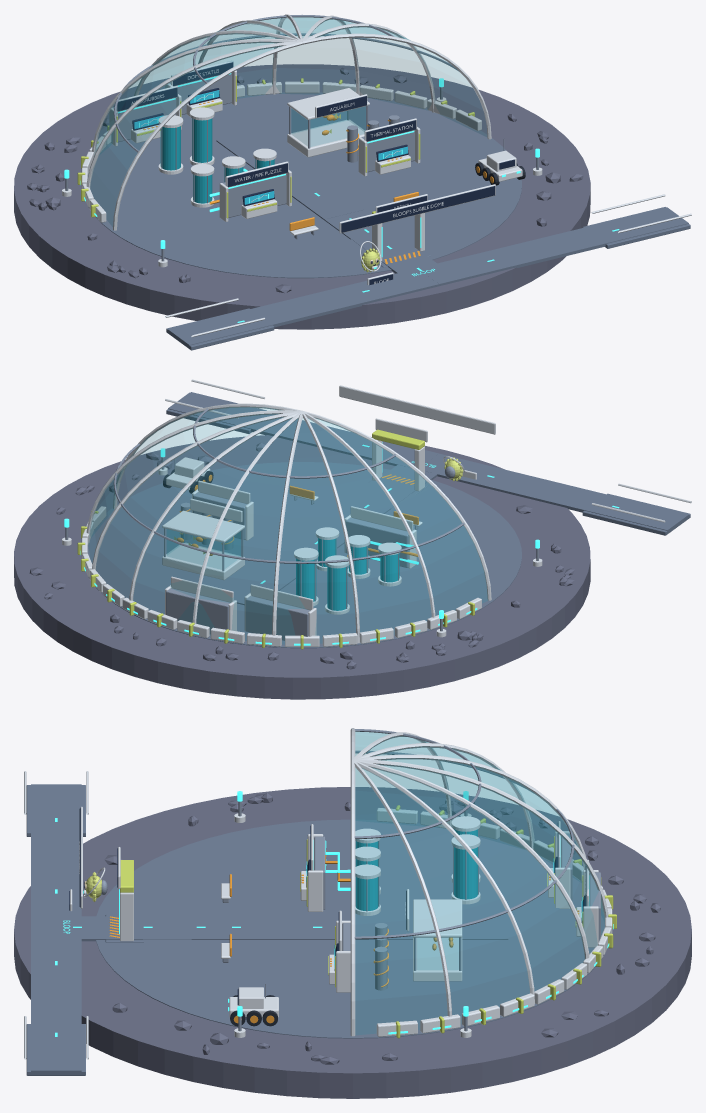
File: bloop.glb
The picture shows the model from 3 angles, top to bottom: view 1: azimuth 30°, elevation 25°; view 2: azimuth 150°, elevation 25°; view 3: azimuth 270°, elevation 25°; orthographic projection. The views are drawn at different scales.
Visible parts, largest first — view 1: BATCH_bloop floor.003, BATCH_bloop rock.003, BATCH_bloop glass.003, BATCH_bloop white.003, BATCH_bloop steel.003, BATCH_bloop navy.003, BATCH_bloop water.003, BATCH_bloop accent.003, BATCH_bloop cyan.003, BATCH_bloop screen.003, BATCH_bloop orange.003; view 2: BATCH_bloop glass.003, BATCH_bloop rock.003, BATCH_bloop floor.003, BATCH_bloop white.003, BATCH_bloop steel.003, BATCH_bloop water.003, BATCH_bloop accent.003, BATCH_bloop cyan.003, BATCH_bloop orange.003; view 3: BATCH_bloop floor.003, BATCH_bloop rock.003, BATCH_bloop glass.003, BATCH_bloop white.003, BATCH_bloop steel.003, BATCH_bloop water.003, BATCH_bloop accent.003, BATCH_bloop cyan.003, BATCH_bloop orange.003, BATCH_bloop navy.003.
Part boxes in pixels (<box>): BATCH_bloop floor.003: <box>87,92,690,350</box>; BATCH_bloop rock.003: <box>14,64,590,329</box>; BATCH_bloop glass.003: <box>90,17,486,226</box>; BATCH_bloop white.003: <box>62,14,691,337</box>; BATCH_bloop steel.003: <box>65,14,538,261</box>; BATCH_bloop navy.003: <box>117,62,514,285</box>; BATCH_bloop water.003: <box>160,118,274,203</box>; BATCH_bloop accent.003: <box>77,75,474,218</box>; BATCH_bloop cyan.003: <box>64,73,619,322</box>; BATCH_bloop screen.003: <box>134,90,407,204</box>; BATCH_bloop orange.003: <box>143,100,493,264</box>; BATCH_bloop glass.003: <box>88,407,487,644</box>; BATCH_bloop rock.003: <box>14,435,590,699</box>; BATCH_bloop floor.003: <box>87,392,690,648</box>; BATCH_bloop white.003: <box>62,379,691,646</box>; BATCH_bloop steel.003: <box>65,408,538,640</box>; BATCH_bloop water.003: <box>296,538,399,610</box>; BATCH_bloop accent.003: <box>77,429,474,649</box>; BATCH_bloop cyan.003: <box>64,442,619,645</box>; BATCH_bloop orange.003: <box>177,474,418,556</box>; BATCH_bloop floor.003: <box>26,784,604,1075</box>; BATCH_bloop rock.003: <box>14,787,691,1098</box>; BATCH_bloop glass.003: <box>355,731,604,1034</box>; BATCH_bloop white.003: <box>24,728,612,1059</box>; BATCH_bloop steel.003: <box>222,729,600,1031</box>; BATCH_bloop water.003: <box>356,829,477,910</box>; BATCH_bloop accent.003: <box>120,805,616,1038</box>; BATCH_bloop cyan.003: <box>55,791,613,1036</box>; BATCH_bloop orange.003: <box>109,850,579,1023</box>; BATCH_bloop navy.003: <box>69,808,586,1005</box>.
Bounding box in the file's own units: 48 × 15.3 × 48.
